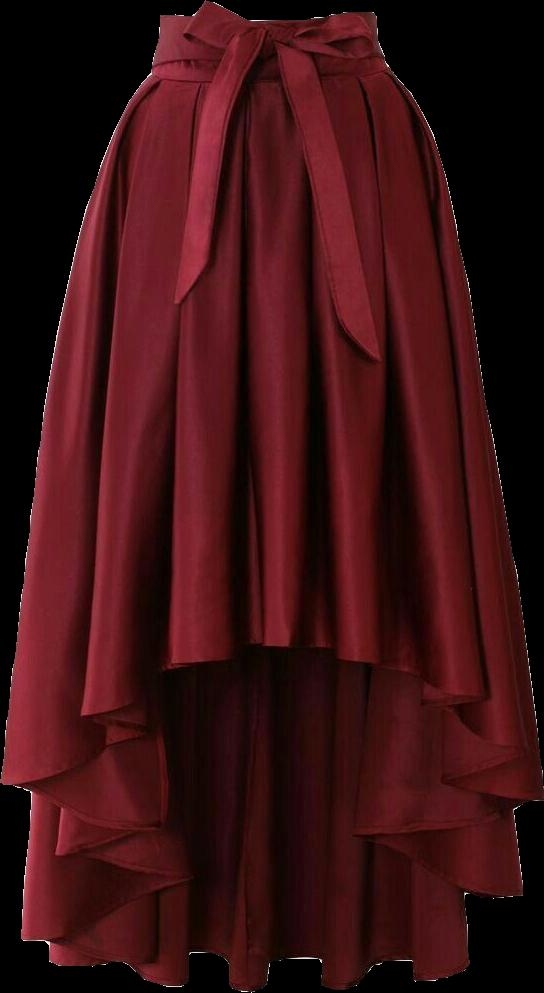Hemline: (0, 633, 543, 806)
Waistline: (145, 60, 393, 90), (155, 5, 376, 24)
